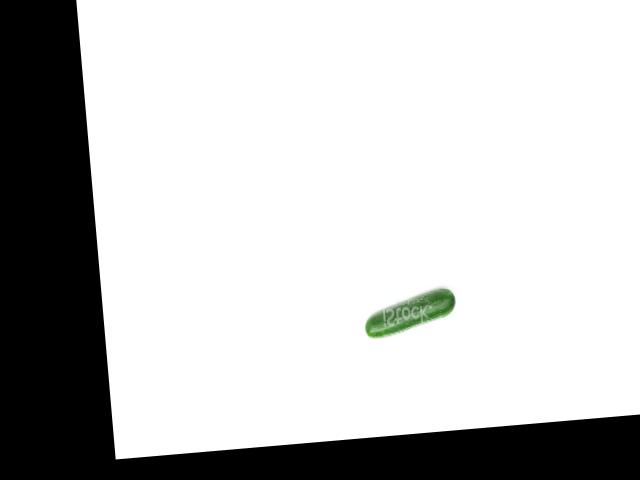cucumber: (362, 287, 458, 338)
